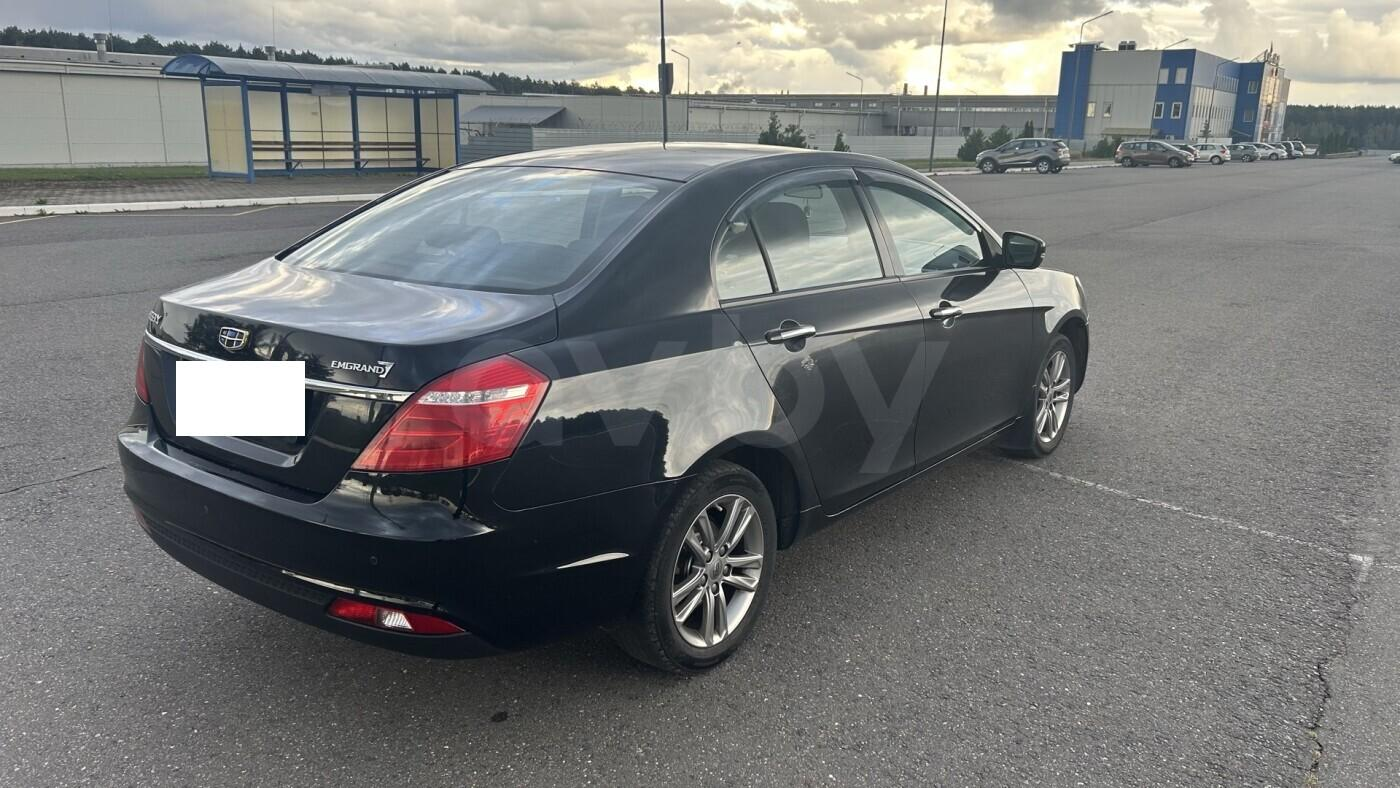Emgrand_2019-2021: (116, 143, 1090, 673)
